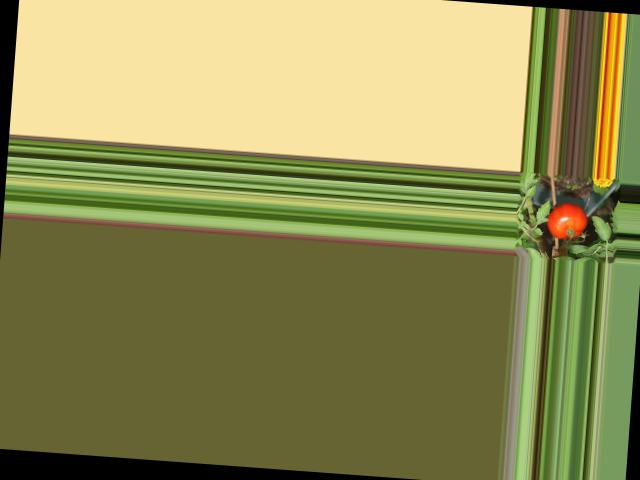tomato: (545, 201, 588, 240)
